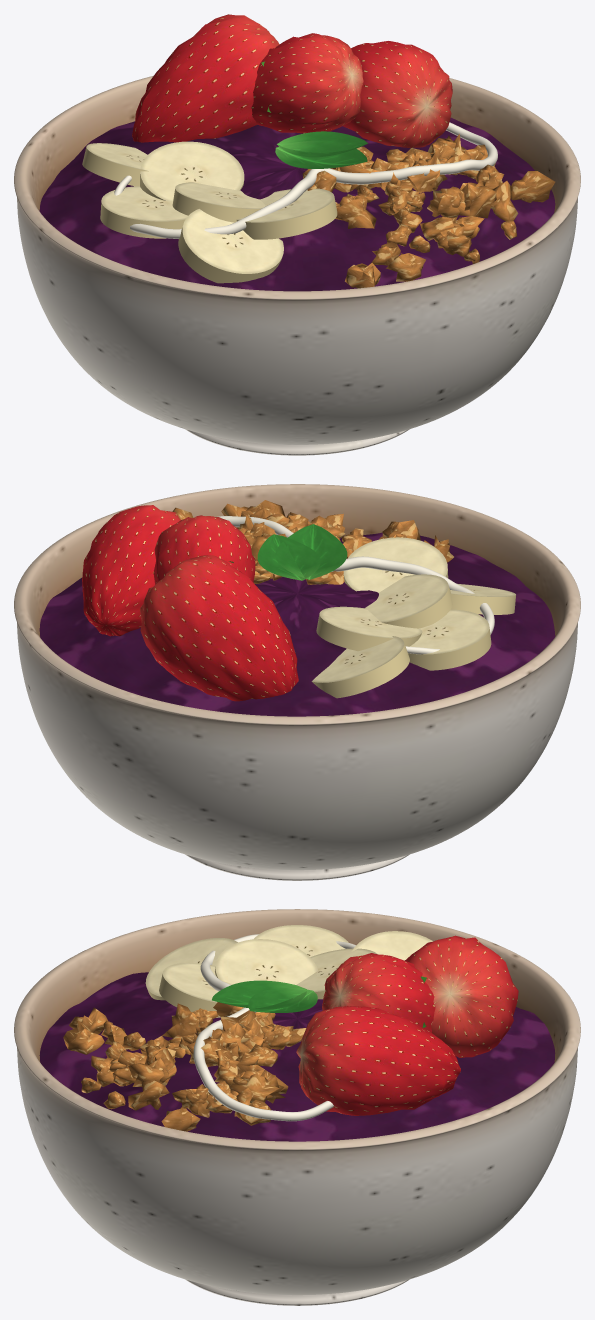
The model's file is acai.glb.
3 views of the same model, one above another, from view 1: azimuth 30°, elevation 25°; view 2: azimuth 150°, elevation 25°; view 3: azimuth 270°, elevation 25° (orthographic).
Parts seen in each view (by area): view 1: acai-tigela; view 2: acai-tigela; view 3: acai-tigela.
Part boxes in pixels (box(x1,y1,x2,y2)): acai-tigela: box(14, 14, 580, 455); acai-tigela: box(14, 484, 580, 880); acai-tigela: box(14, 909, 580, 1305).
Size of the model in its own units: 0.1573 by 0.0985 by 0.1573.
9 materials, 6 textured.
